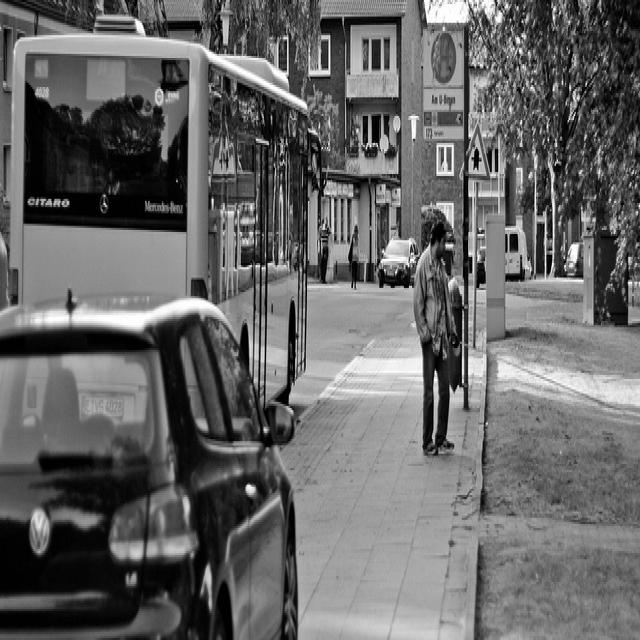Vehicle: (8, 16, 325, 414), (0, 299, 298, 640), (476, 226, 532, 278), (377, 237, 422, 292), (565, 242, 584, 277)
